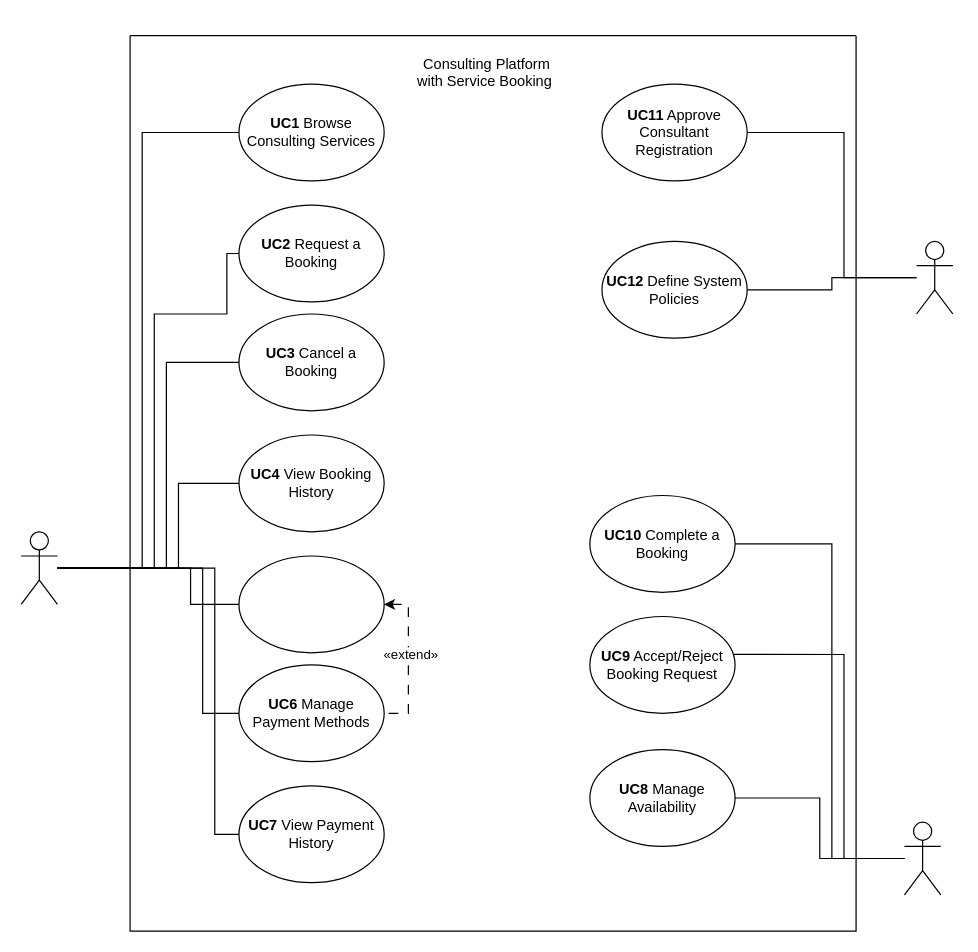
This 978x952 diagram has some shape labels left out. Each missing label, with the centre of its shape:
Admin: point 934,277
Client: point 38,567
Consultant: point 922,858
UC5 Process Payment: point 311,604
